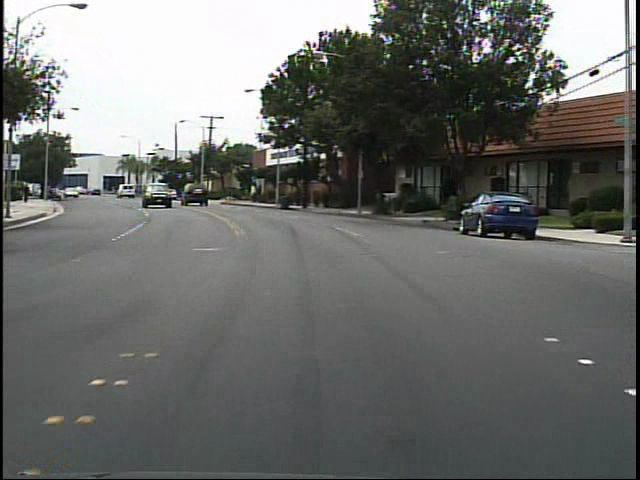person: (21, 181, 32, 206)
